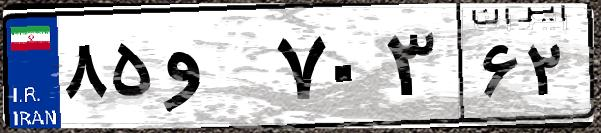0: (330, 28, 385, 110)
2: (525, 38, 570, 115)
3: (385, 28, 445, 110)
5: (110, 28, 158, 98)
6: (475, 38, 525, 113)
7: (270, 28, 330, 110)
8: (57, 26, 110, 100)
و: (158, 20, 270, 120)
